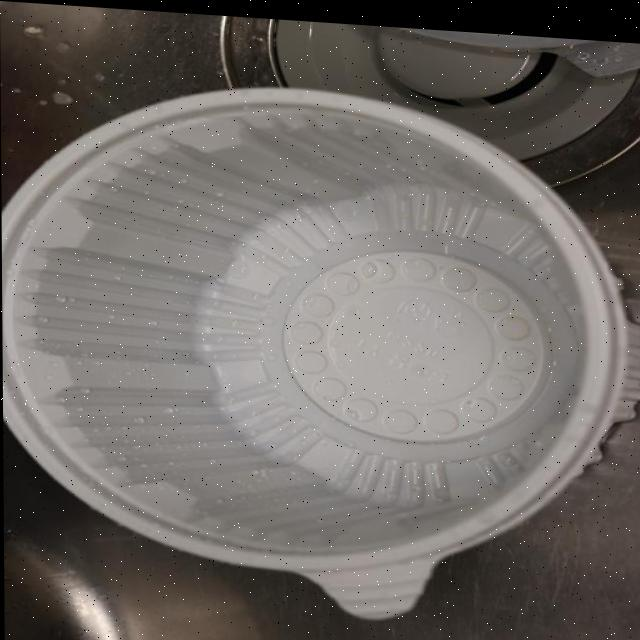disposable: (0, 73, 640, 615)
